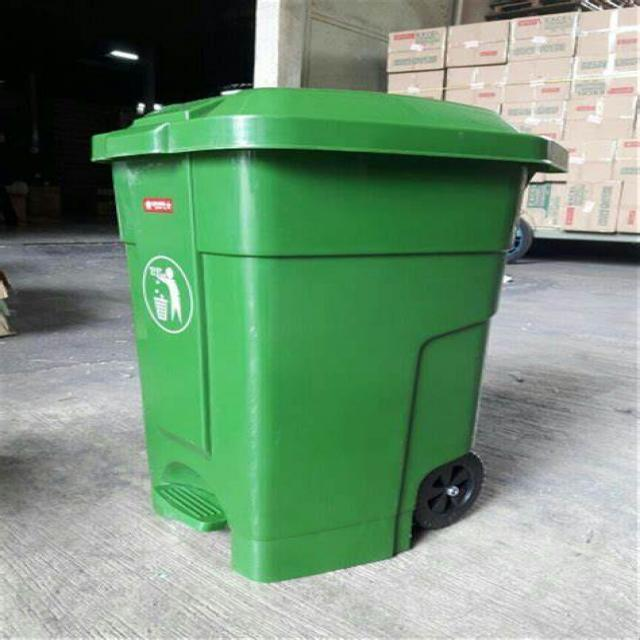garbage container: (72, 76, 581, 596)
